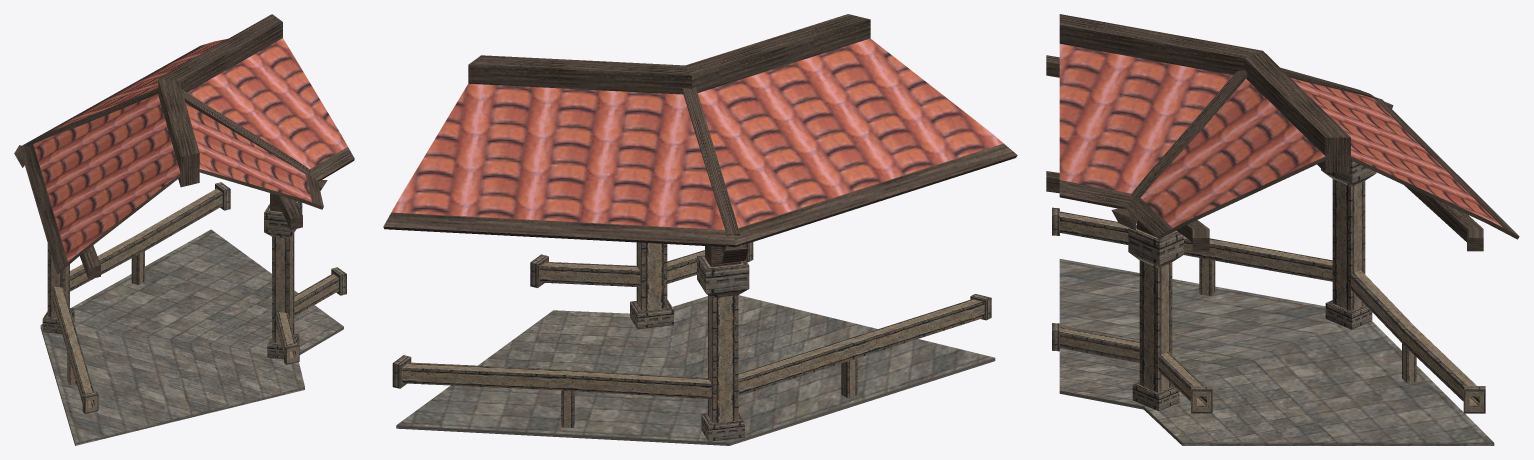
The model's file is corredorjpcurva2.fbx.
The picture shows the model from 3 angles, left to right: view 1: azimuth 30°, elevation 25°; view 2: azimuth 150°, elevation 25°; view 3: azimuth 270°, elevation 25°; orthographic projection. The views are drawn at different scales.
Parts seen in each view (by area): view 1: Cube.001; view 2: Cube.001; view 3: Cube.001.
Part boxes in pixels (x1,y1,x2,y2): Cube.001: [14, 14, 354, 445]; Cube.001: [383, 14, 1017, 445]; Cube.001: [1046, 14, 1519, 445].
Size of the model in its own units: 4.21 by 3.08 by 4.24.
